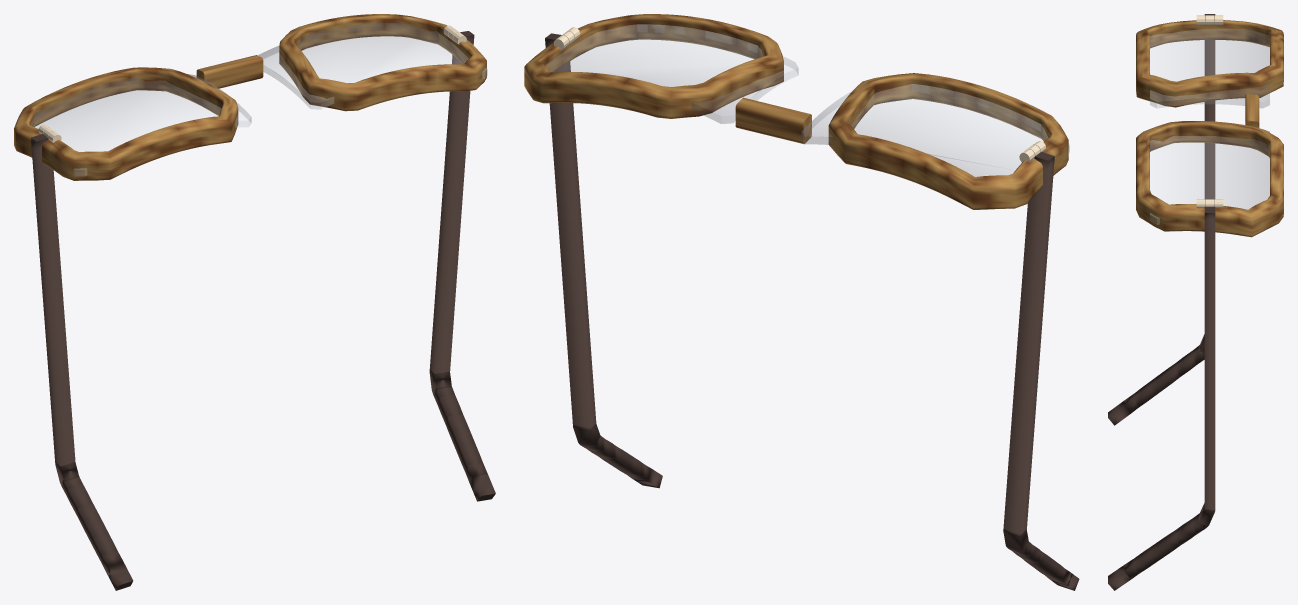
File: accessory-eyewear-hero.glb
The picture shows the model from 3 angles, left to right: view 1: azimuth 30°, elevation 25°; view 2: azimuth 150°, elevation 25°; view 3: azimuth 270°, elevation 25°; orthographic projection. The views are drawn at different scales.
Parts seen in each view (by area): view 1: MEL_eyewear_Frame, MEL_eyewear_TempleR, MEL_eyewear_TempleL, MEL_eyewear_LensL, MEL_eyewear_LensR; view 2: MEL_eyewear_Frame, MEL_eyewear_LensL, MEL_eyewear_LensR, MEL_eyewear_TempleR, MEL_eyewear_TempleL; view 3: MEL_eyewear_Frame, MEL_eyewear_LensR, MEL_eyewear_LensL, MEL_eyewear_TempleL, MEL_eyewear_TempleR.
Part boxes in pixels (left/top/right/bottom): MEL_eyewear_Frame: left=14, top=14, right=486, bottom=180; MEL_eyewear_TempleR: left=31, top=134, right=133, bottom=590; MEL_eyewear_TempleL: left=429, top=31, right=495, bottom=501; MEL_eyewear_LensL: left=31, top=74, right=251, bottom=176; MEL_eyewear_LensR: left=258, top=23, right=487, bottom=109; MEL_eyewear_Frame: left=524, top=14, right=1068, bottom=209; MEL_eyewear_LensL: left=801, top=84, right=1069, bottom=176; MEL_eyewear_LensR: left=546, top=24, right=798, bottom=123; MEL_eyewear_TempleR: left=1003, top=152, right=1079, bottom=590; MEL_eyewear_TempleL: left=545, top=33, right=662, bottom=488; MEL_eyewear_Frame: left=1136, top=15, right=1283, bottom=237; MEL_eyewear_LensR: left=1150, top=129, right=1269, bottom=224; MEL_eyewear_LensL: left=1150, top=29, right=1269, bottom=108; MEL_eyewear_TempleL: left=1108, top=205, right=1215, bottom=590; MEL_eyewear_TempleR: left=1108, top=14, right=1215, bottom=425.
Size of the model in its own units: 0.1336 by 0.1272 by 0.0499.
